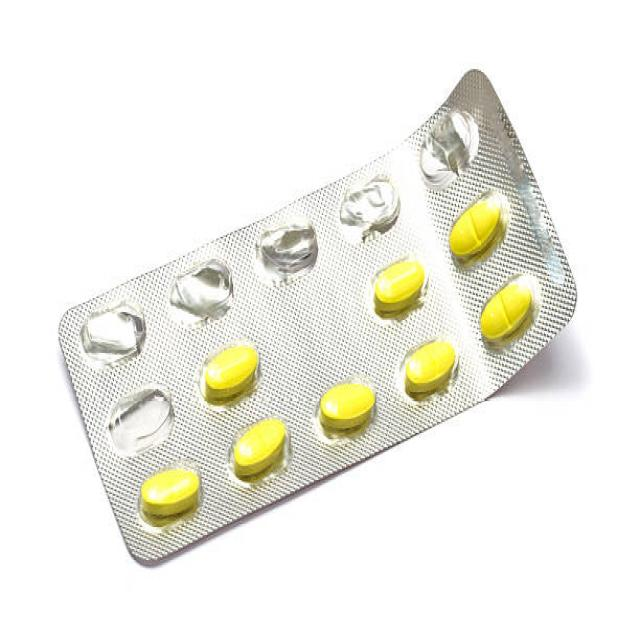Empty: (70, 300, 159, 375), (95, 382, 185, 451), (410, 110, 492, 185), (163, 257, 244, 332), (251, 217, 322, 294), (336, 180, 408, 245)
Pill: (474, 274, 547, 355), (189, 338, 277, 405), (441, 187, 515, 265), (225, 411, 296, 492), (392, 335, 466, 404), (310, 373, 387, 438), (134, 462, 208, 529), (369, 251, 432, 319)
